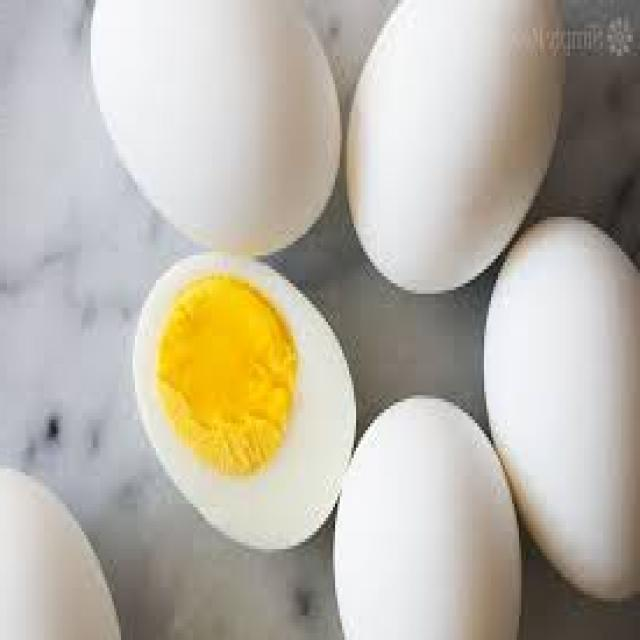Boiled Egg: (89, 0, 566, 565)
